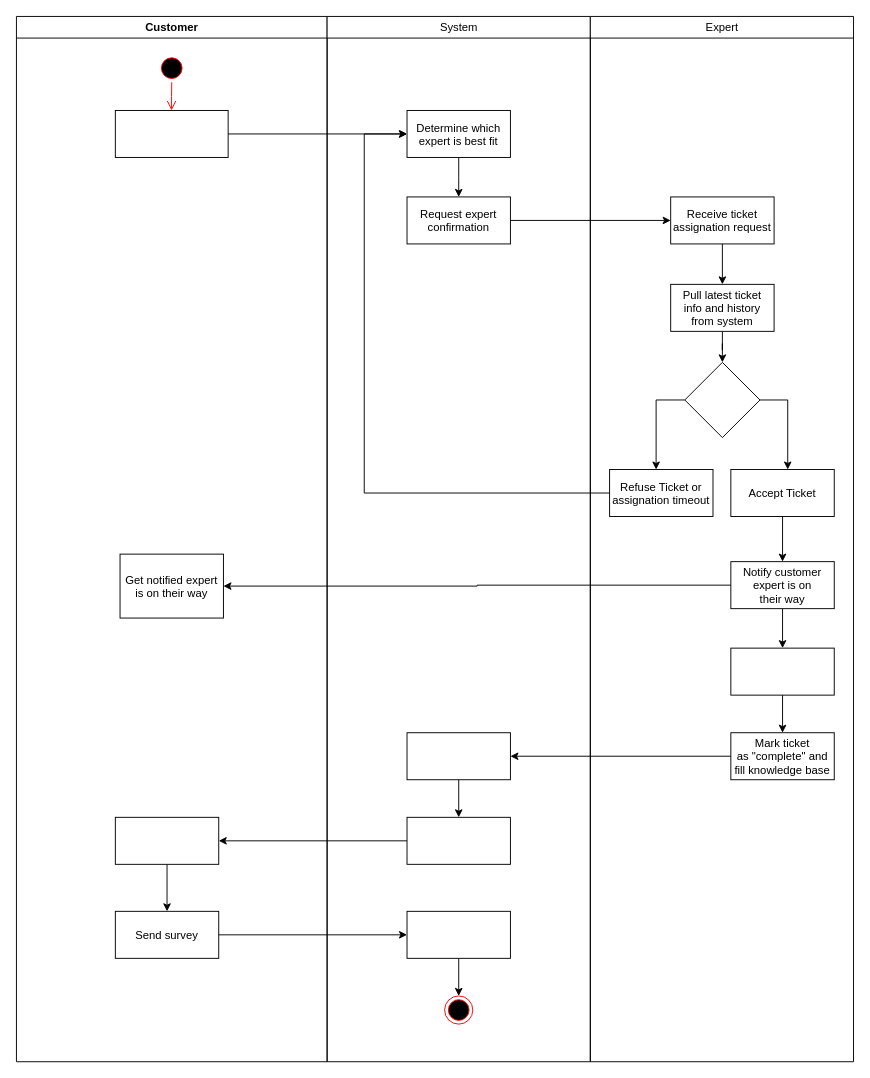
This 870x1078 diagram has some shape labels left out. Here are the shapes that lost their labels. From the top down, the centre of each, then its label:
(x=171, y=133): Enter Problem Ticket
(x=722, y=399): Decide based on skills and availability
(x=782, y=671): Fix the issue
(x=458, y=756): Get notified ticket is "complete"
(x=166, y=840): Fill out survey
(x=458, y=840): Send survey to customer by email
(x=458, y=934): Receive and record survey information
